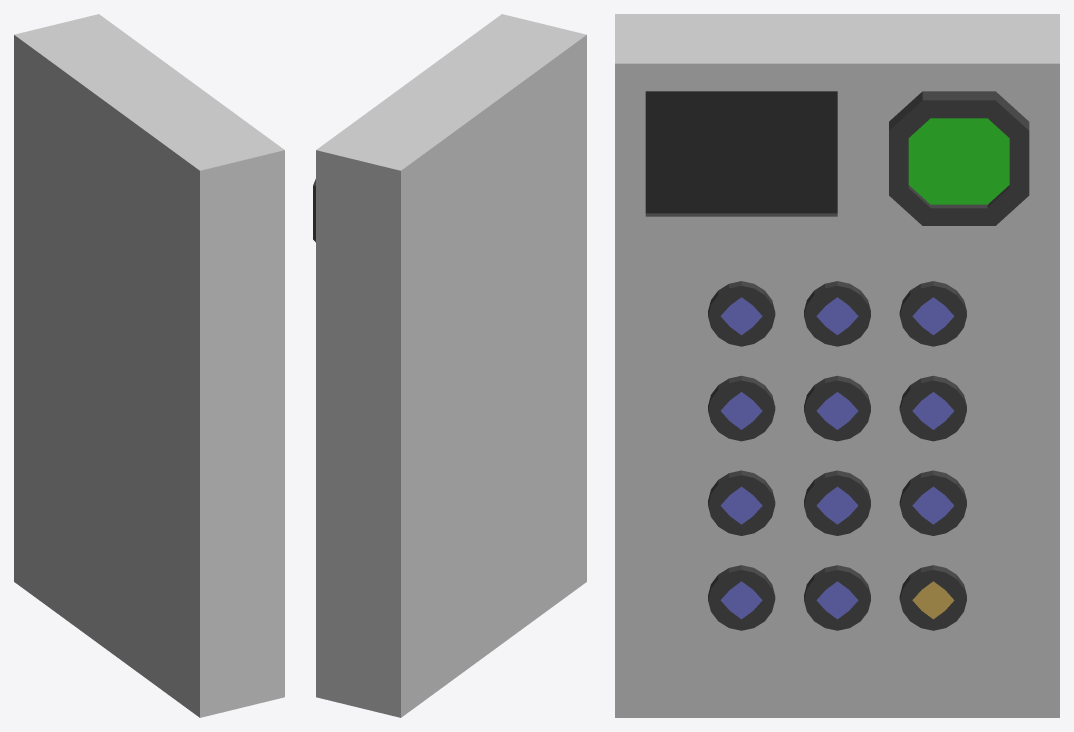
Rendered from code_pad.fbx.
3 views of the same model, side by side, from view 1: azimuth 30°, elevation 25°; view 2: azimuth 150°, elevation 25°; view 3: azimuth 270°, elevation 25° (orthographic). The views are drawn at different scales.
Parts seen in each view (by area): view 1: Cube; view 2: Cube; view 3: Cube.
Boxes of the visible parts, x1=… form: Cube: x1=14, y1=14, x2=284, y2=717; Cube: x1=313, y1=14, x2=586, y2=717; Cube: x1=615, y1=14, x2=1059, y2=717.
Bounding box in the file's own units: 50.36 × 261 × 161.
